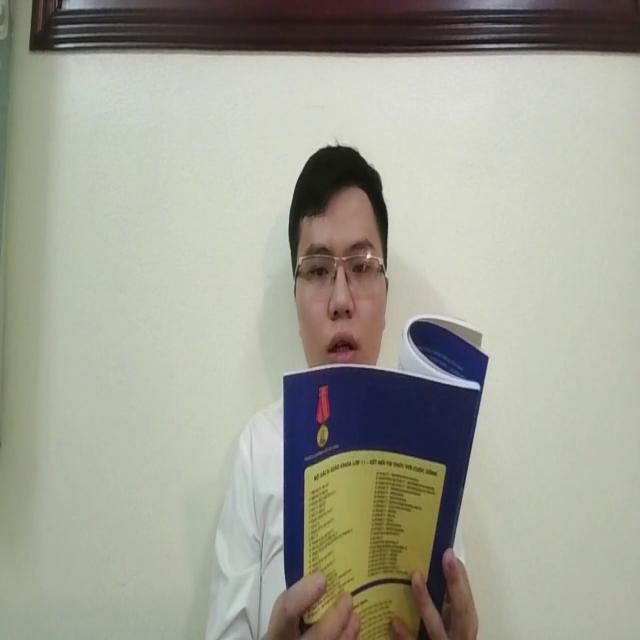book: (280, 314, 487, 640)
student: (283, 143, 391, 364)
